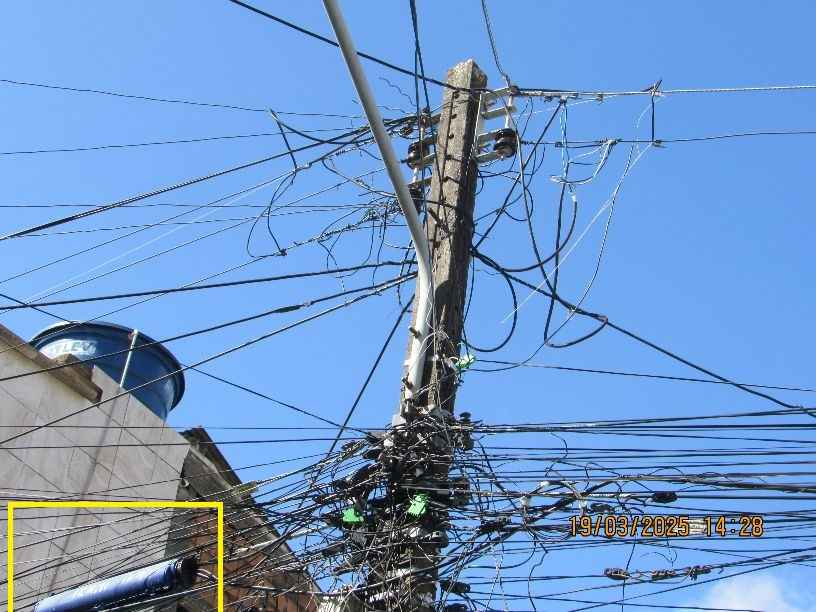18: (35, 551, 200, 612)
drop: (328, 543, 377, 577), (398, 484, 441, 520), (443, 341, 481, 377), (341, 469, 389, 495), (440, 568, 478, 599), (332, 503, 377, 529), (338, 432, 377, 456)
